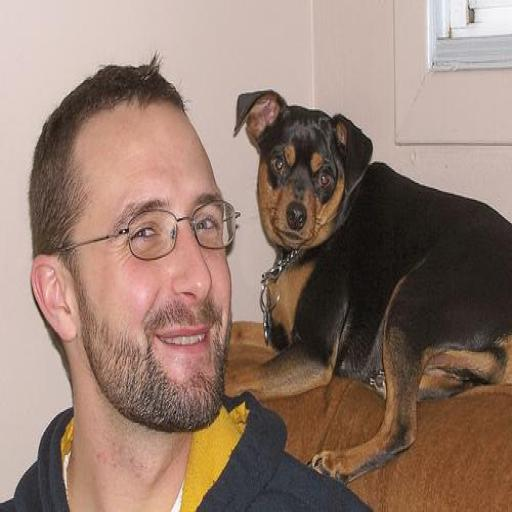dog_face: (235, 78, 380, 262)
